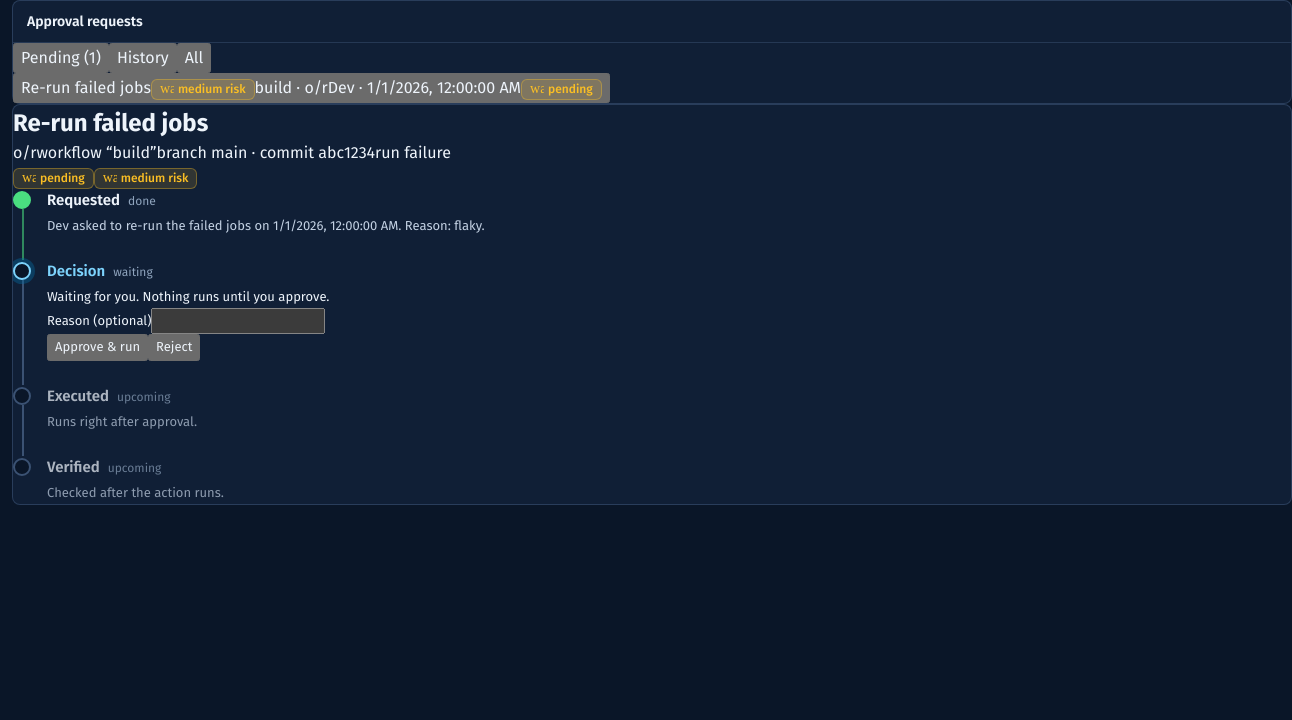
Test case: LiveApprovals › reports success only from the backend's response
Click the button "Approve & run" at (98, 348), box left=47, top=334, right=148, bottom=361
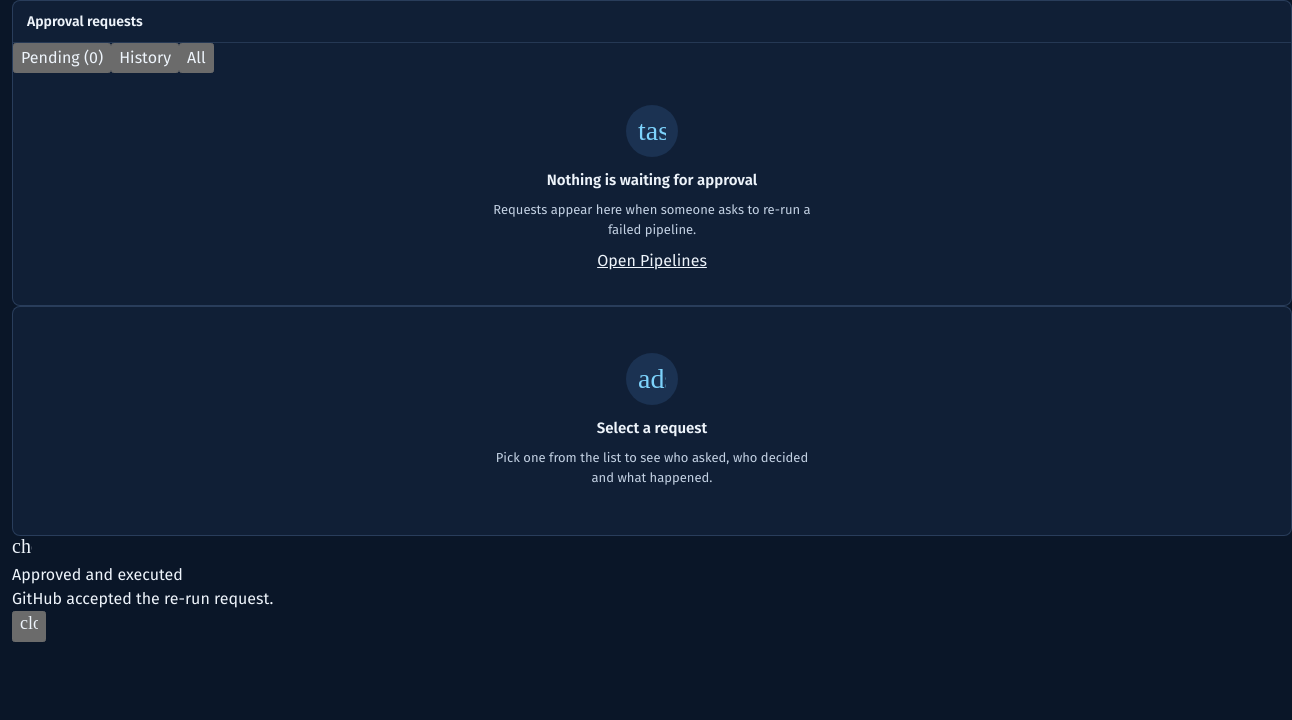
Check: the text "GitHub accepted the re-run request." is shown, box left=12, top=589, right=273, bottom=608
